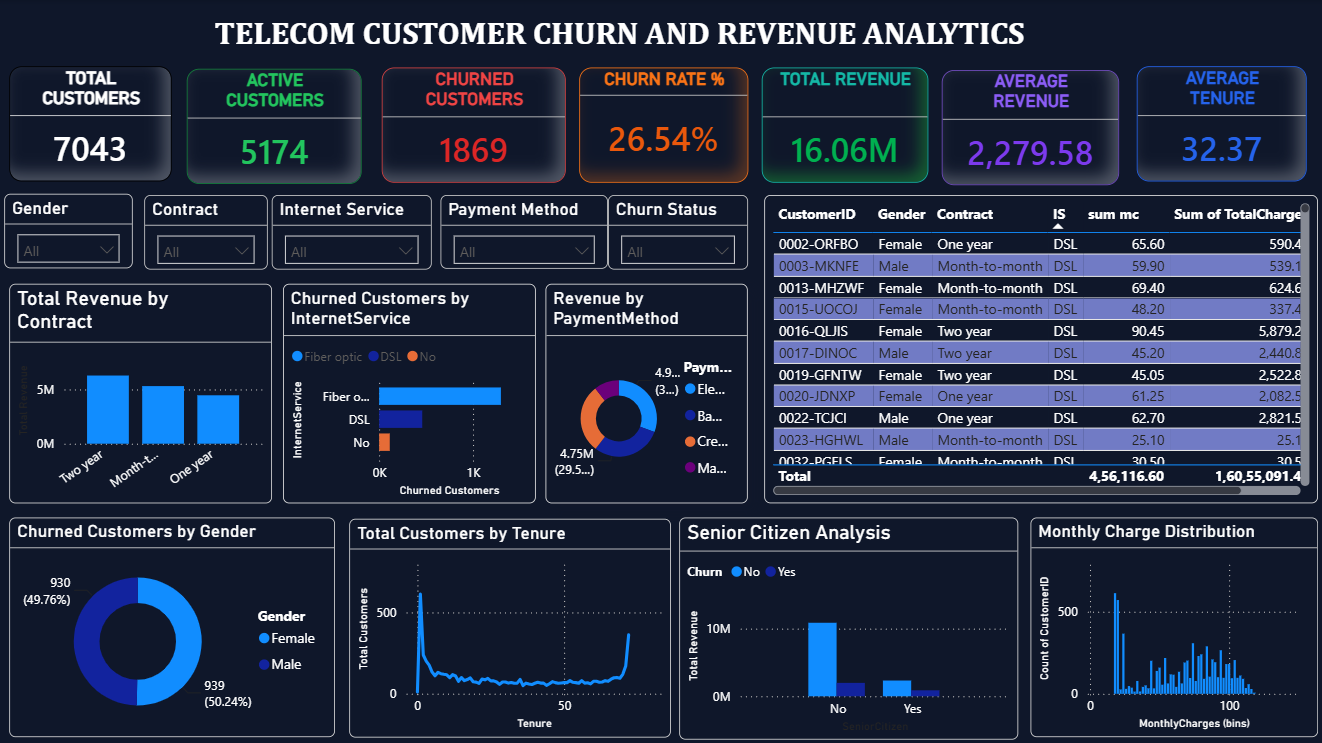

This screenshot's page, from the dashboard's own definition file:
{"tool":"powerbi","page":{"name":"Dashboard","canvas":[1280,720],"ordinal":0},"visuals":[{"type":"card","title":"TOTAL CUSTOMERS","fields":{"Values":["WA_Fn_UseC__Telco_Customer_Chur.Total Customers"]},"box":[10.9,63.9,156.7,111.4],"z":0},{"type":"card","title":"ACTIVE CUSTOMERS ","fields":{"Values":["WA_Fn_UseC__Telco_Customer_Chur.Active Customers"]},"box":[182.4,66.1,168.9,111.4],"z":1000},{"type":"card","title":"CHURNED CUSTOMERS","fields":{"Values":["WA_Fn_UseC__Telco_Customer_Chur.Churned Customers"]},"box":[370.9,64.9,177.5,111.4],"z":2000},{"type":"card","title":"AVERAGE TENURE","fields":{"Values":["WA_Fn_UseC__Telco_Customer_Chur.Average Tenure"]},"box":[1099.3,63.7,164.1,111],"z":3000},{"type":"card","title":"CHURN RATE %","fields":{"Values":["WA_Fn_UseC__Telco_Customer_Chur.Churn Rate"]},"box":[560.7,64.9,162.9,111],"z":4000},{"type":"card","title":"TOTAL REVENUE ","fields":{"Values":["WA_Fn_UseC__Telco_Customer_Chur.Total Revenue"]},"box":[737,64.9,160.5,111],"z":5000},{"type":"card","title":"AVERAGE REVENUE","fields":{"Values":["WA_Fn_UseC__Telco_Customer_Chur.Average Revenue"]},"box":[910.8,67.3,171.3,111],"z":6000},{"type":"slicer","title":"Gender","fields":{"Values":["WA_Fn_UseC__Telco_Customer_Chur.Gender"]},"box":[6,187,124.3,72.4],"z":7000},{"type":"slicer","title":"Contract","fields":{"Values":["WA_Fn_UseC__Telco_Customer_Chur.Contract"]},"box":[141.2,188.2,119.4,72.4],"z":8000},{"type":"slicer","title":"Payment Method","fields":{"Values":["WA_Fn_UseC__Telco_Customer_Chur.PaymentMethod"]},"box":[427.1,188.2,161.7,71.2],"z":9000},{"type":"slicer","title":"Churn Status","fields":{"Values":["WA_Fn_UseC__Telco_Customer_Chur.Churn"]},"box":[588.7,188.2,135.1,72.4],"z":10000},{"type":"clusteredColumnChart","fields":{"Category":["WA_Fn_UseC__Telco_Customer_Chur.Contract"],"Y":["WA_Fn_UseC__Telco_Customer_Chur.Total Revenue"]},"box":[11,274.2,253.4,211.8],"z":11000},{"type":"barChart","title":"Churned Customers by InternetService","fields":{"Category":["WA_Fn_UseC__Telco_Customer_Chur.InternetService"],"Series":["WA_Fn_UseC__Telco_Customer_Chur.InternetService"],"Y":["WA_Fn_UseC__Telco_Customer_Chur.Churned Customers"]},"box":[275.1,273.9,243.7,212.3],"z":12000},{"type":"slicer","title":"Internet Service","fields":{"Values":["WA_Fn_UseC__Telco_Customer_Chur.InternetService"]},"box":[264.2,188.2,154.4,72.4],"z":13000},{"type":"donutChart","title":"Revenue by PaymentMethod","fields":{"Category":["WA_Fn_UseC__Telco_Customer_Chur.PaymentMethod"],"Y":["WA_Fn_UseC__Telco_Customer_Chur.Total Revenue"]},"box":[528.4,273.9,195.4,212.3],"z":14000},{"type":"donutChart","fields":{"Category":["WA_Fn_UseC__Telco_Customer_Chur.Gender"],"Y":["WA_Fn_UseC__Telco_Customer_Chur.Churned Customers"]},"box":[10.9,499.5,314,212.3],"z":15000},{"type":"lineChart","fields":{"Category":["WA_Fn_UseC__Telco_Customer_Chur.Tenure"],"Y":["WA_Fn_UseC__Telco_Customer_Chur.Total Customers"]},"box":[339,500.7,310.3,211],"z":16000},{"type":"clusteredColumnChart","title":"Senior Citizen Analysis","fields":{"Category":["WA_Fn_UseC__Telco_Customer_Chur.SeniorCitizen"],"Series":["WA_Fn_UseC__Telco_Customer_Chur.Churn"],"Y":["WA_Fn_UseC__Telco_Customer_Chur.Total Revenue"]},"box":[657.5,499.5,326.9,214.7],"z":17000},{"type":"clusteredColumnChart","title":"Monthly Charge Distribution","fields":{"Category":["WA_Fn_UseC__Telco_Customer_Chur.MonthlyCharges (bins)"],"Y":["CountNonNull(WA_Fn_UseC__Telco_Customer_Chur.CustomerID)"]},"box":[996.5,499.5,277.5,212.3],"z":18000},{"type":"tableEx","fields":{"Values":["WA_Fn_UseC__Telco_Customer_Chur.CustomerID","WA_Fn_UseC__Telco_Customer_Chur.Gender","WA_Fn_UseC__Telco_Customer_Chur.Contract","WA_Fn_UseC__Telco_Customer_Chur.InternetService","Sum(WA_Fn_UseC__Telco_Customer_Chur.MonthlyCharges)","Sum(WA_Fn_UseC__Telco_Customer_Chur.Calculated_TotalCharges)","WA_Fn_UseC__Telco_Customer_Chur.Churn"]},"box":[739.5,188.2,534.5,298],"z":19000},{"type":"shape","title":"TELECOM CUSTOMER CHURN AND REVENUE ANALYTICS","box":[141.5,13.7,917.3,33.5],"z":20000}]}

Visuals, with their boxes in screenshot pixels (x1, y1, x2, y2), scaled from the page's 1280x720 canvas onto the 1322x743 screenshot:
"TOTAL CUSTOMERS" card: box=[11, 66, 173, 181]
"ACTIVE CUSTOMERS " card: box=[188, 68, 363, 183]
"CHURNED CUSTOMERS" card: box=[383, 67, 566, 182]
"AVERAGE TENURE" card: box=[1135, 66, 1305, 180]
"CHURN RATE %" card: box=[579, 67, 747, 182]
"TOTAL REVENUE " card: box=[761, 67, 927, 182]
"AVERAGE REVENUE" card: box=[941, 69, 1118, 184]
"Gender" slicer: box=[6, 193, 135, 268]
"Contract" slicer: box=[146, 194, 269, 269]
"Payment Method" slicer: box=[441, 194, 608, 268]
"Churn Status" slicer: box=[608, 194, 748, 269]
clusteredColumnChart - WA_Fn_UseC__Telco_Customer_Chur.Contract x WA_Fn_UseC__Telco_Customer_Chur.Total Revenue: box=[11, 283, 273, 502]
"Churned Customers by InternetService" barChart: box=[284, 283, 536, 502]
"Internet Service" slicer: box=[273, 194, 432, 269]
"Revenue by PaymentMethod" donutChart: box=[546, 283, 748, 502]
donutChart - WA_Fn_UseC__Telco_Customer_Chur.Gender x WA_Fn_UseC__Telco_Customer_Chur.Churned Customers: box=[11, 515, 336, 735]
lineChart - WA_Fn_UseC__Telco_Customer_Chur.Tenure x WA_Fn_UseC__Telco_Customer_Chur.Total Customers: box=[350, 517, 671, 734]
"Senior Citizen Analysis" clusteredColumnChart: box=[679, 515, 1017, 737]
"Monthly Charge Distribution" clusteredColumnChart: box=[1029, 515, 1316, 735]
tableEx - WA_Fn_UseC__Telco_Customer_Chur.CustomerID x WA_Fn_UseC__Telco_Customer_Chur.Gender: box=[764, 194, 1316, 502]
"TELECOM CUSTOMER CHURN AND REVENUE ANALYTICS" shape: box=[146, 14, 1094, 49]
